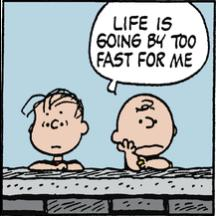charlie: (110, 92, 176, 174)
